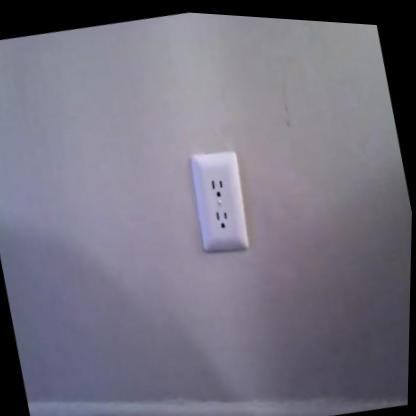OUTLET: (184, 147, 256, 258)
